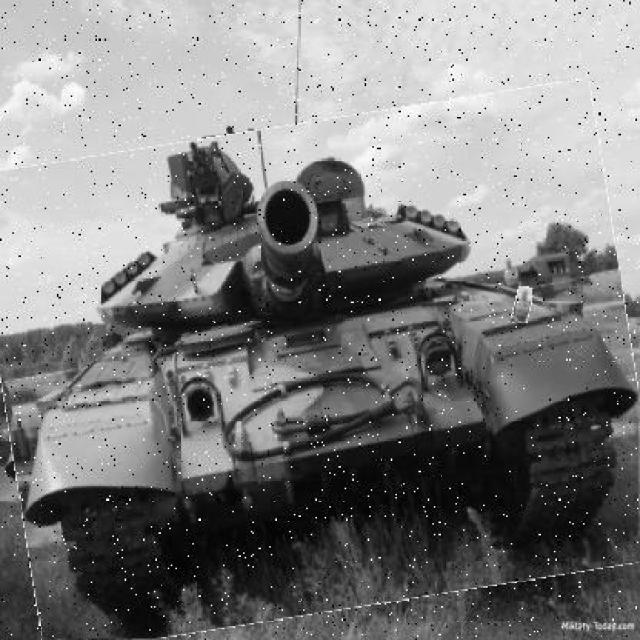Person: (515, 289, 533, 326)
Tank: (1, 102, 639, 634)
